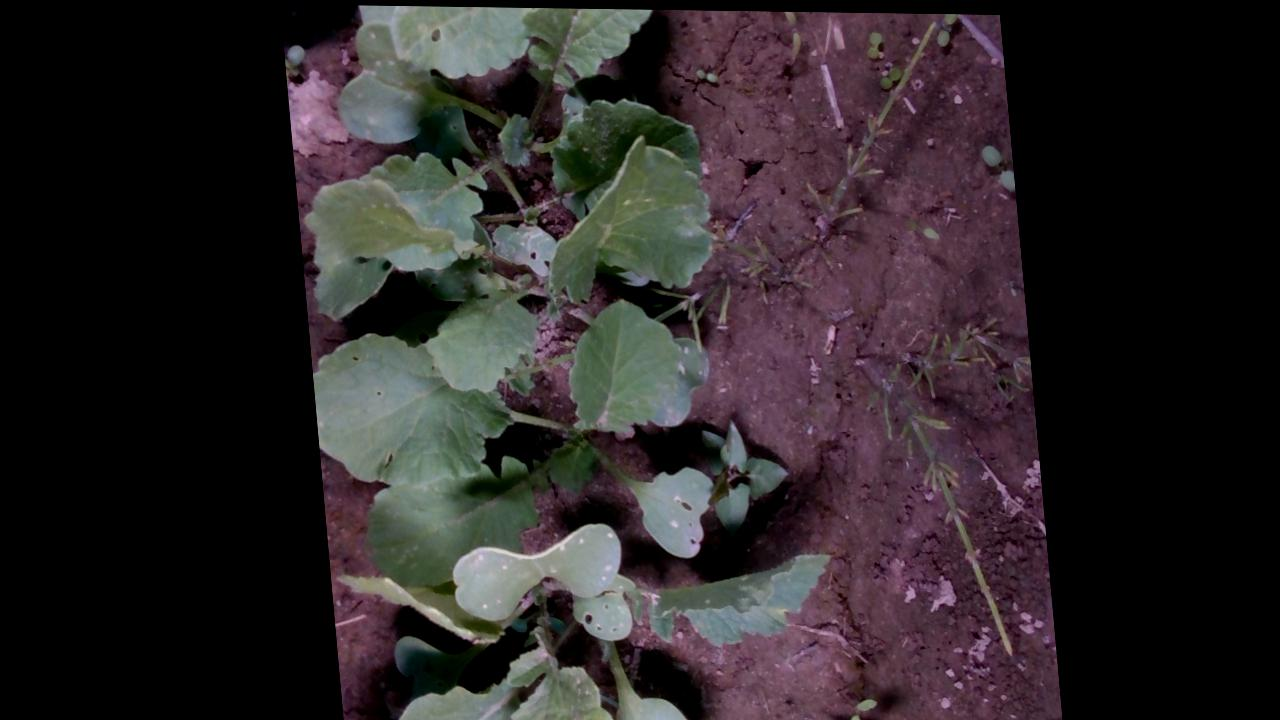weed: (780, 9, 802, 60), (932, 11, 962, 47), (863, 28, 882, 57), (692, 68, 717, 82)
